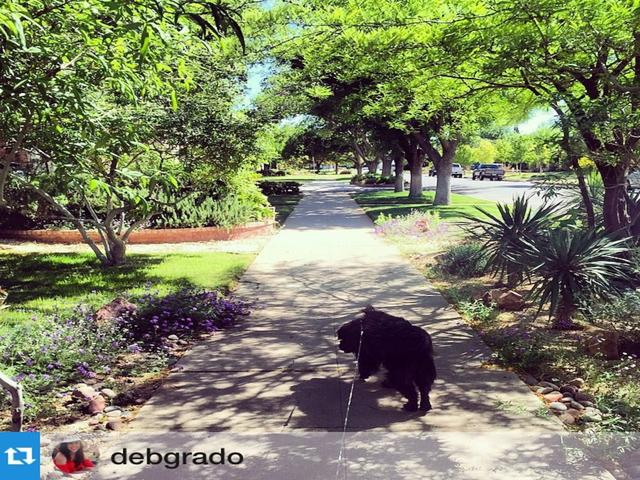dog: (322, 302, 455, 409)
